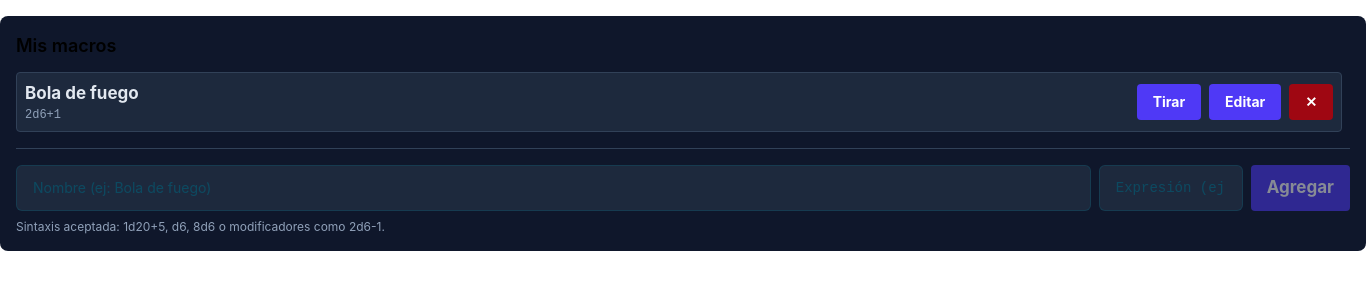
Test: MacroManager failure feedback › validates edit input before updating and keeps the edited value visible
Click the button "Editar" at (1245, 102), box [1209,84,1281,120]
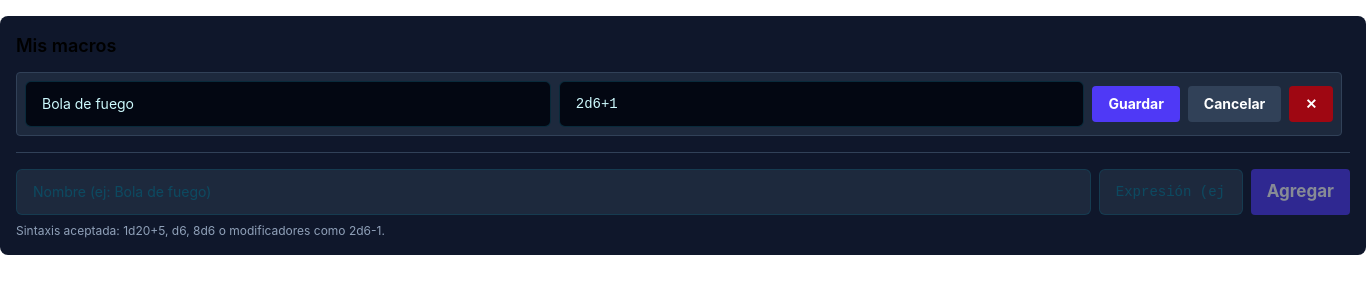
Replace the text in the field named "Expresión del macro" with "0d6" at (822, 104), box [559,81,1084,127]
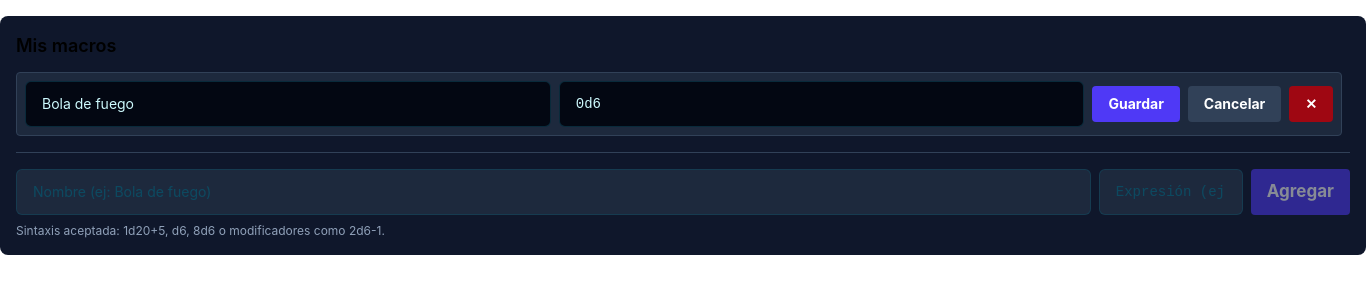
Click the button "Guardar" at (1136, 104), box [1092,86,1180,122]
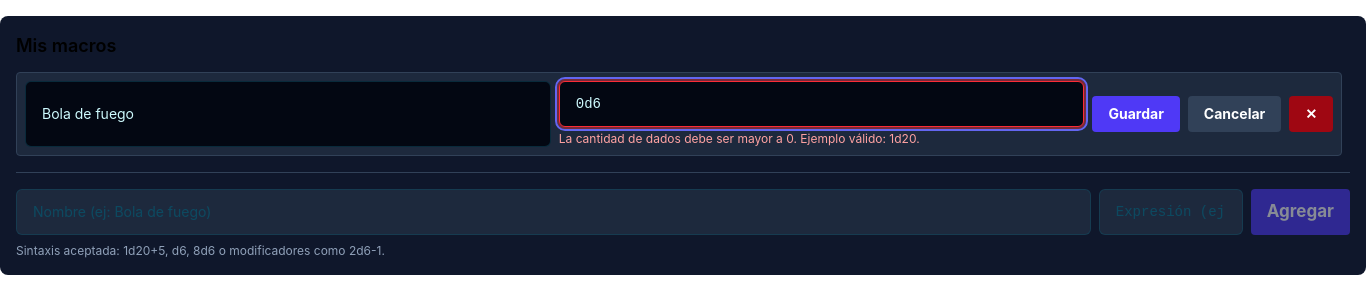
Expected: the message shows "cantidad de dados debe ser mayor a 0", [559,131,920,146]
